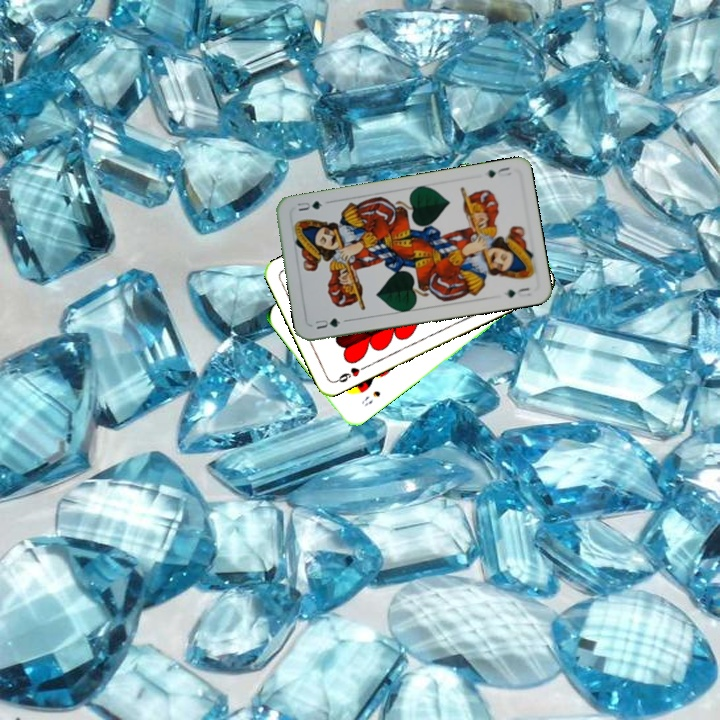GU: (311, 314, 343, 332), (483, 163, 514, 180)
H9: (331, 362, 369, 385)
S8: (357, 386, 383, 409)
